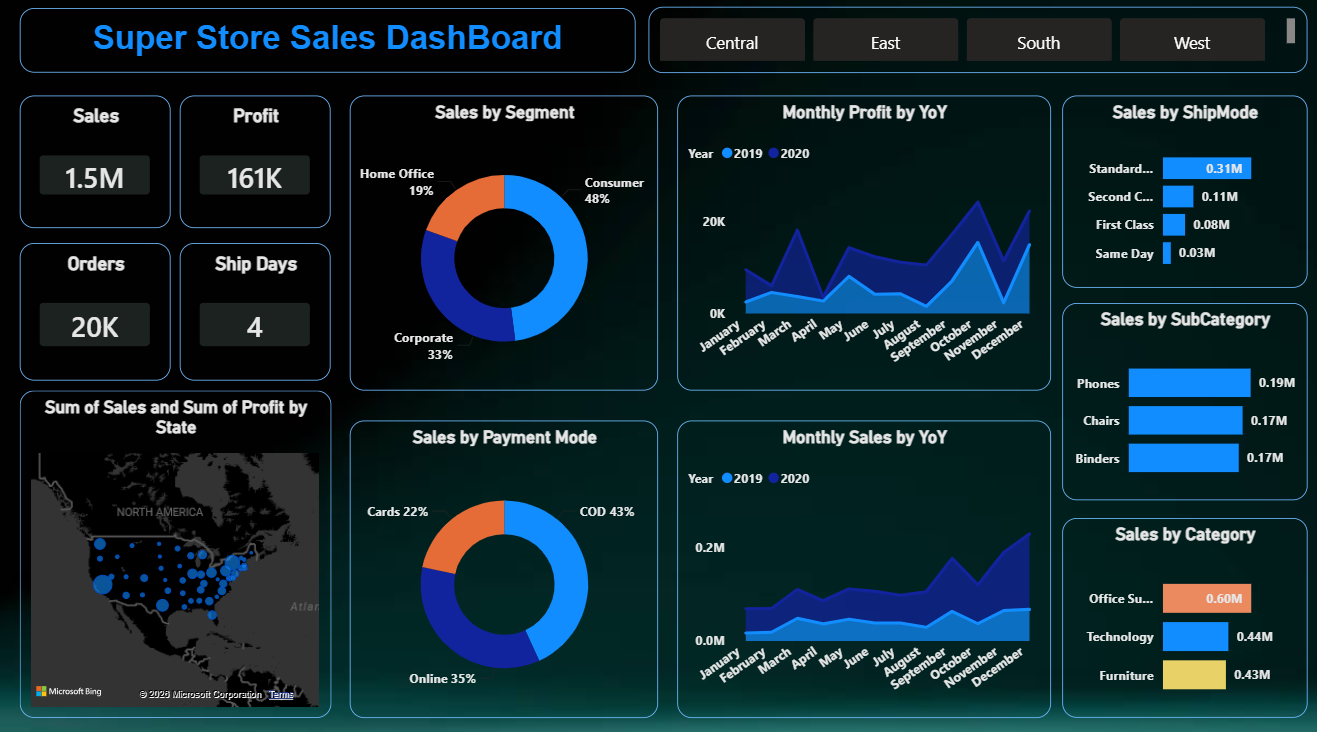

The dashboard page shown, as its layout file describes it:
{"tool":"powerbi","page":{"name":"Page 1","canvas":[1280,720],"ordinal":0},"visuals":[{"type":"clusteredBarChart","title":"Sales by Category","fields":{"Category":["SuperStore_Sales_Dataset.Category"],"Y":["Sum(SuperStore_Sales_Dataset.Sales)"]},"box":[1029.1,506.7,236.5,193],"z":0},{"type":"clusteredBarChart","title":"Sales by SubCategory","fields":{"Category":["SuperStore_Sales_Dataset.Sub-Category"],"Y":["Sum(SuperStore_Sales_Dataset.Sales)"]},"box":[1029.1,299.2,236.5,190.6],"z":1000},{"type":"clusteredBarChart","title":"Sales by ShipMode","fields":{"Category":["SuperStore_Sales_Dataset.Ship Mode"],"Y":["Sum(SuperStore_Sales_Dataset.Sales)"]},"box":[1029.1,98.9,236.5,185.8],"z":2000},{"type":"stackedAreaChart","title":"Monthly Sales by YoY","fields":{"Category":["SuperStore_Sales_Dataset.Order Date.Variation.Date Hierarchy.Month","SuperStore_Sales_Dataset.Order Date.Variation.Date Hierarchy.Day"],"Y":["Sum(SuperStore_Sales_Dataset.Sales)"],"Series":["SuperStore_Sales_Dataset.Order Date.Variation.Date Hierarchy.Year"]},"box":[657.5,412.6,360.7,287.1],"z":3000},{"type":"stackedAreaChart","title":"Monthly Profit by YoY","fields":{"Category":["SuperStore_Sales_Dataset.Order Date.Variation.Date Hierarchy.Month","SuperStore_Sales_Dataset.Order Date.Variation.Date Hierarchy.Day"],"Series":["SuperStore_Sales_Dataset.Order Date.Variation.Date Hierarchy.Year"],"Y":["Sum(SuperStore_Sales_Dataset.Profit)"]},"box":[657.5,98.9,360.7,284.7],"z":4000},{"type":"map","fields":{"Category":["SuperStore_Sales_Dataset.State"],"Size":["Sum(SuperStore_Sales_Dataset.Sales)"]},"box":[22.9,383.6,300.4,316.1],"z":5000},{"type":"donutChart","title":"Sales by Segment","fields":{"Category":["SuperStore_Sales_Dataset.Segment"],"Y":["Sum(SuperStore_Sales_Dataset.Sales)"]},"box":[341.4,98.9,298,284.7],"z":6000},{"type":"donutChart","title":"Sales by Payment Mode","fields":{"Y":["Sum(SuperStore_Sales_Dataset.Sales)"],"Category":["SuperStore_Sales_Dataset.Payment Mode"]},"box":[341.4,412.6,298,287.1],"z":7000},{"type":"advancedSlicerVisual","fields":{"Values":["SuperStore_Sales_Dataset.Region"]},"box":[629.8,13.3,635.8,63.9],"z":8000},{"type":"textbox","box":[22.9,14.5,594.8,62.7],"z":9000},{"type":"cardVisual","title":"Sales","fields":{"Data":["Sum(SuperStore_Sales_Dataset.Sales)"]},"box":[22.9,98.9,146,127.9],"z":10000},{"type":"cardVisual","title":"Orders","fields":{"Data":["Sum(SuperStore_Sales_Dataset.Quantity)"]},"box":[22.9,241.3,146,132.7],"z":11000},{"type":"cardVisual","title":"Profit","fields":{"Data":["Sum(SuperStore_Sales_Dataset.Profit)"]},"box":[177.3,98.9,146,127.9],"z":12000},{"type":"cardVisual","title":"Ship Days","fields":{"Data":["Avg(SuperStore_Sales_Dataset.AvgDelivery)"]},"box":[177.3,241.3,146,132.7],"z":13000}]}

Visuals, with their boxes in screenshot pixels (x1, y1, x2, y2), scaled from the page's 1280x720 canvas onto the 1317x732 screenshot:
"Sales by Category" clusteredBarChart: 1059 515 1302 711
"Sales by SubCategory" clusteredBarChart: 1059 304 1302 498
"Sales by ShipMode" clusteredBarChart: 1059 101 1302 289
"Monthly Sales by YoY" stackedAreaChart: 677 419 1048 711
"Monthly Profit by YoY" stackedAreaChart: 677 101 1048 390
map - SuperStore_Sales_Dataset.State x Sum(SuperStore_Sales_Dataset.Sales): 24 390 333 711
"Sales by Segment" donutChart: 351 101 658 390
"Sales by Payment Mode" donutChart: 351 419 658 711
advancedSlicerVisual - SuperStore_Sales_Dataset.Region: 648 14 1302 78
textbox: 24 15 636 78
"Sales" cardVisual: 24 101 174 231
"Orders" cardVisual: 24 245 174 380
"Profit" cardVisual: 182 101 333 231
"Ship Days" cardVisual: 182 245 333 380
